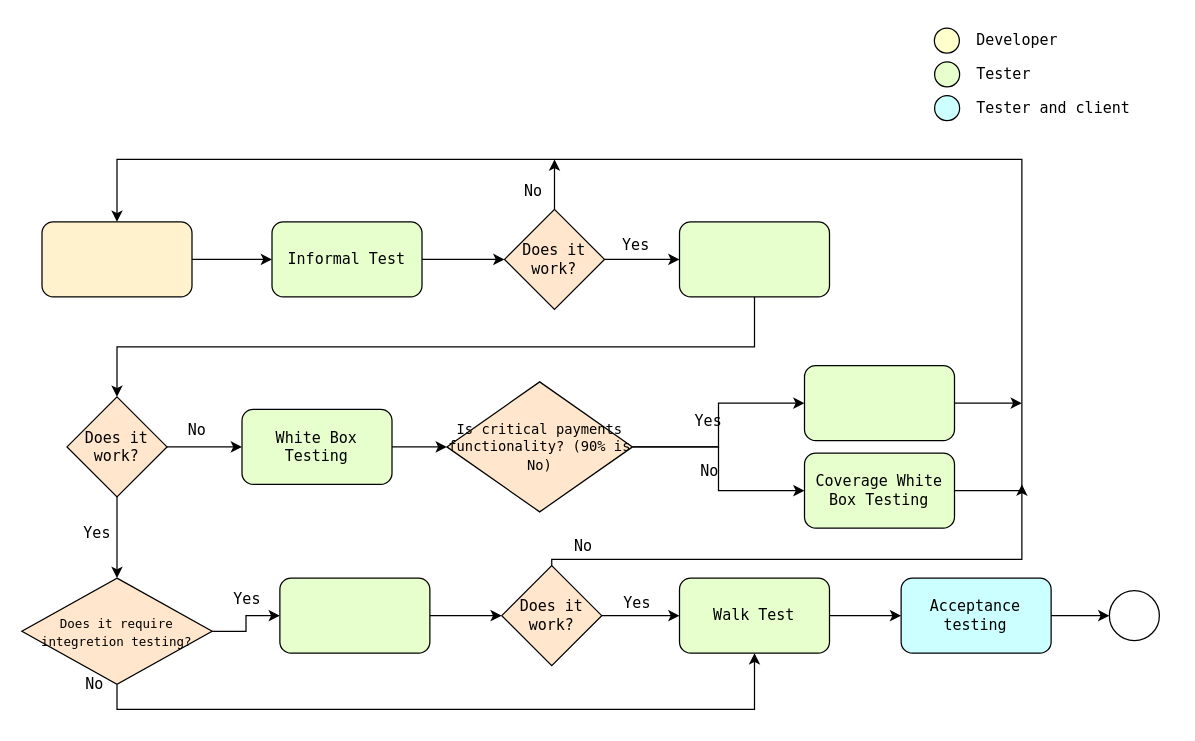
Some shapes in this 1195 by 741 pixel diagram are drawn without their labels. Here are the shapes that lost their labels. From the top down, the centre of each, then its label:
At point 116,259: "Develop the component".
At point 754,259: "Black Box Testing".
At point 878,402: "White Box Testing with basic path".
At point 354,615: "Integration Testing".
At point 1133,615: "End".
